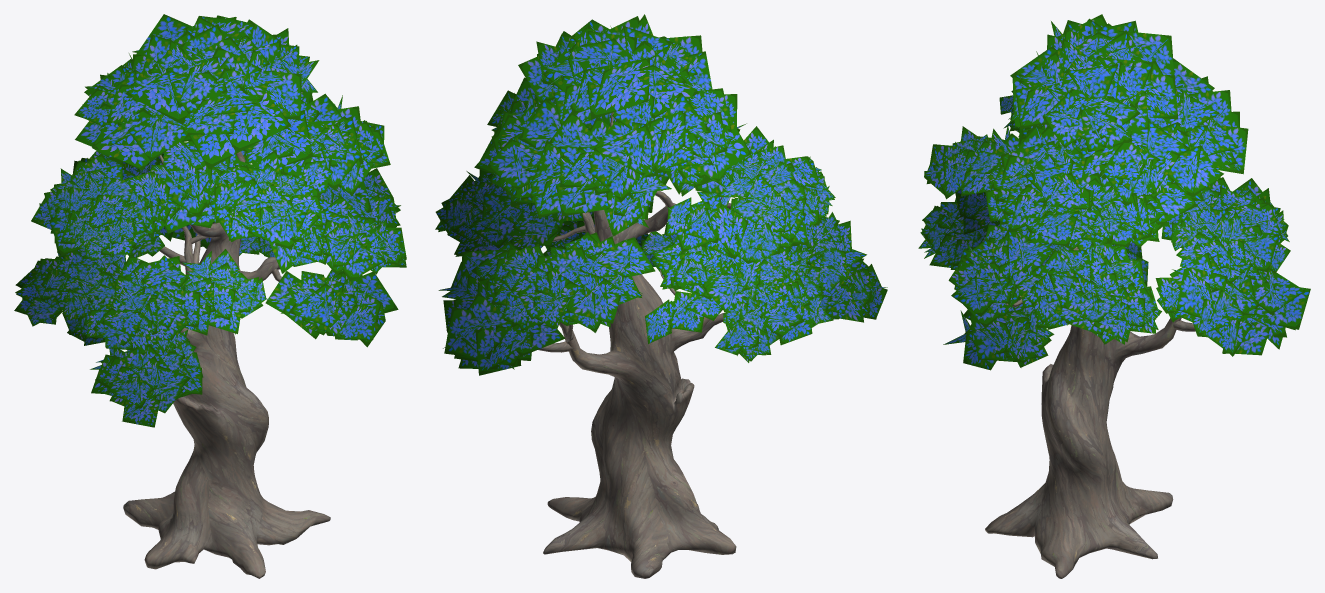
The model's file is Homeworld_Exterior_Dq_Plant_Pt_04_Lod0.fbx.
3 views of the same model, side by side, from view 1: azimuth 30°, elevation 25°; view 2: azimuth 150°, elevation 25°; view 3: azimuth 270°, elevation 25° (orthographic). The views are drawn at different scales.
Parts seen in each view (by area): view 1: Area_Dq_Tree_Common_Sak_02_02_Leaf_Lod0, Area_Dq_Tree_Common_Sak_02_02_Bark_Lod0; view 2: Area_Dq_Tree_Common_Sak_02_02_Leaf_Lod0, Area_Dq_Tree_Common_Sak_02_02_Bark_Lod0; view 3: Area_Dq_Tree_Common_Sak_02_02_Leaf_Lod0, Area_Dq_Tree_Common_Sak_02_02_Bark_Lod0.
Boxes of the visible parts, <box> form: Area_Dq_Tree_Common_Sak_02_02_Leaf_Lod0: <box>14,14,406,427</box>; Area_Dq_Tree_Common_Sak_02_02_Bark_Lod0: <box>123,151,330,578</box>; Area_Dq_Tree_Common_Sak_02_02_Leaf_Lod0: <box>435,14,887,375</box>; Area_Dq_Tree_Common_Sak_02_02_Bark_Lod0: <box>538,112,803,578</box>; Area_Dq_Tree_Common_Sak_02_02_Leaf_Lod0: <box>918,14,1310,370</box>; Area_Dq_Tree_Common_Sak_02_02_Bark_Lod0: <box>985,146,1195,578</box>.
Size of the model in its own units: 24.66 by 33.01 by 23.07.
2 materials, 2 textured.
